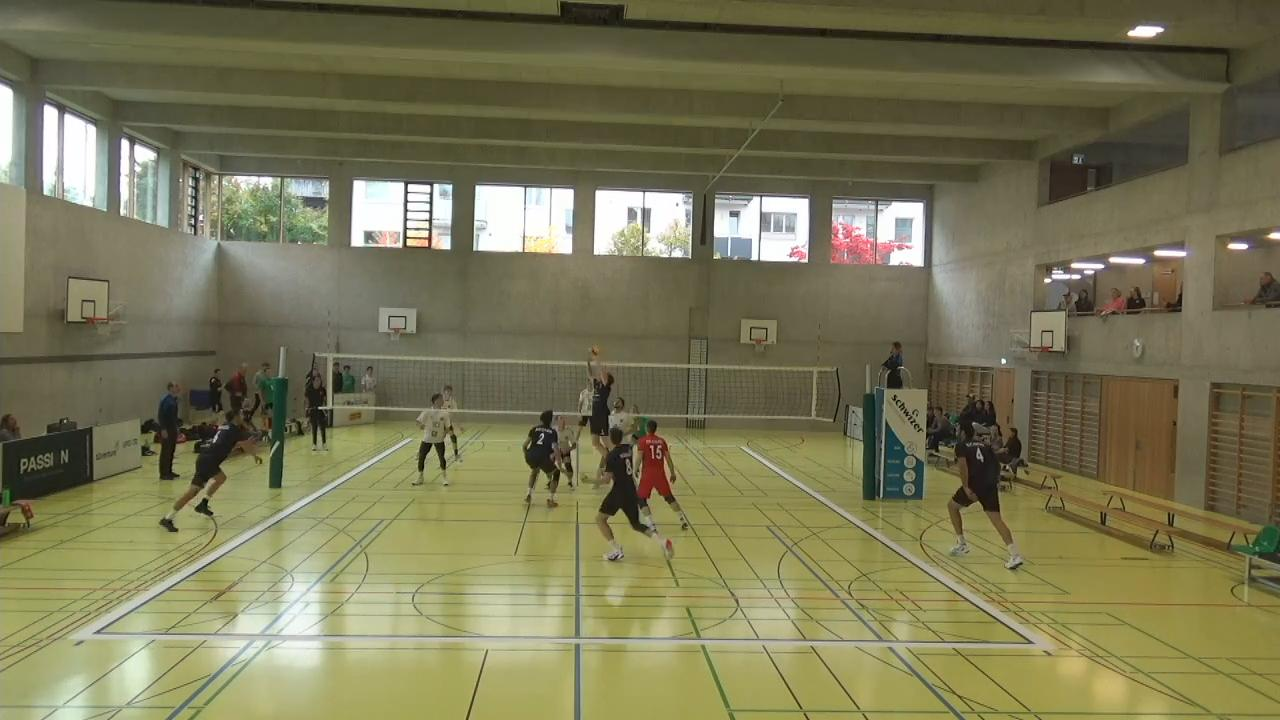alzata: (576, 347, 615, 479)
